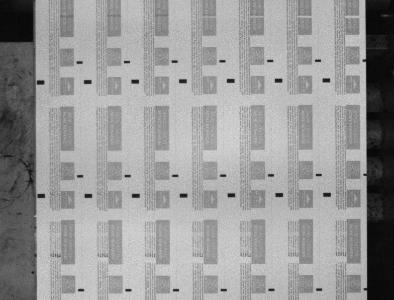backgroundclutter: (31, 271, 35, 274)
incorrect qblock: (364, 287, 368, 290), (363, 173, 367, 176), (364, 59, 367, 62)
qblock: (37, 193, 45, 198), (323, 192, 331, 197), (132, 193, 140, 198), (180, 193, 188, 198), (37, 80, 45, 85), (131, 79, 139, 84), (275, 78, 283, 83), (227, 78, 235, 83), (85, 193, 92, 198), (323, 78, 331, 82), (276, 193, 284, 197), (228, 193, 236, 197), (84, 80, 92, 84), (179, 79, 187, 83)
smallqblock: (125, 288, 132, 292), (77, 174, 83, 178), (220, 59, 226, 63), (78, 288, 85, 291), (316, 288, 323, 291), (124, 174, 131, 177), (268, 174, 275, 177), (172, 174, 179, 177), (220, 174, 227, 177), (76, 61, 83, 64), (267, 59, 274, 62), (315, 59, 322, 62), (173, 288, 179, 291), (269, 288, 275, 291), (221, 288, 227, 291), (316, 173, 322, 176), (124, 60, 130, 63), (172, 60, 178, 63)
